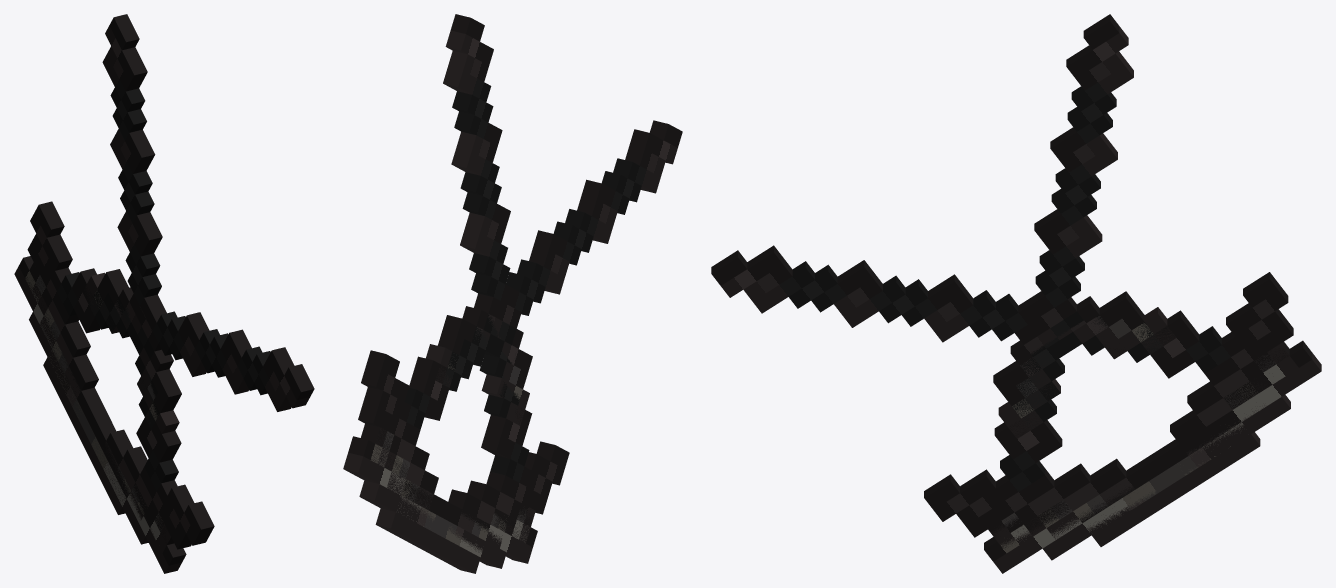
The model's file is ebony_scythe.glb.
The picture shows the model from 3 angles, left to right: view 1: azimuth 30°, elevation 25°; view 2: azimuth 150°, elevation 25°; view 3: azimuth 270°, elevation 25°; orthographic projection. The views are drawn at different scales.
Visible parts, largest first — view 1: main__Tool_R, off__Tool_L; view 2: off__Tool_L, main__Tool_R; view 3: off__Tool_L, main__Tool_R.
Part boxes in pixels (x1,y1,x2,y2): main__Tool_R: [14, 201, 314, 552]; off__Tool_L: [25, 14, 214, 573]; off__Tool_L: [358, 14, 569, 563]; main__Tool_R: [343, 120, 682, 573]; off__Tool_L: [924, 14, 1298, 573]; main__Tool_R: [711, 245, 1321, 560].
Size of the model in its own units: 0.075 by 2.76 by 2.76.
Materials: 1 (1 with a texture image).
